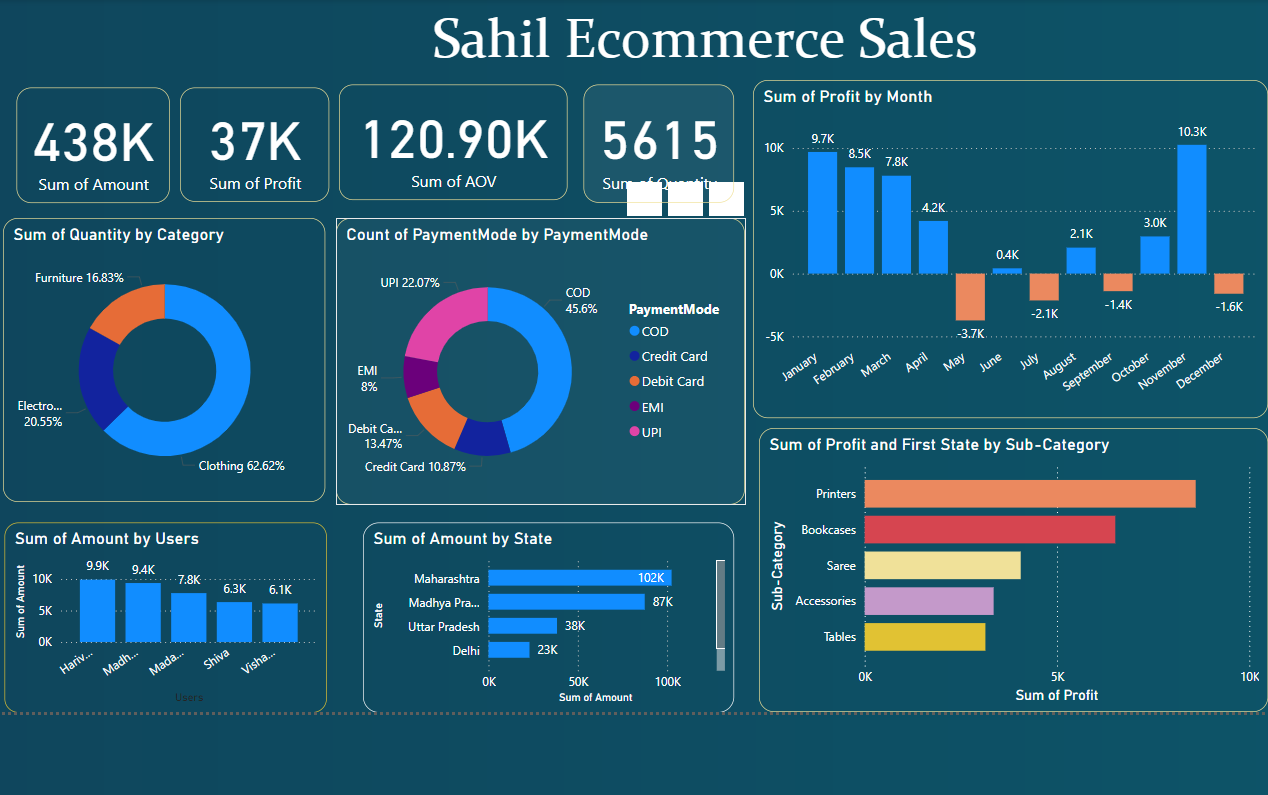

The dashboard page shown, as its layout file describes it:
{"tool":"powerbi","page":{"name":"Page 2","canvas":[1280,720],"ordinal":1},"visuals":[{"type":"textbox","box":[171.4,0,1080.7,80.9],"z":0},{"type":"clusteredBarChart","fields":{"Category":["Details.Sub-Category"],"Y":["Details.Profit"]},"box":[765.7,433.4,514.3,286.6],"z":1000},{"type":"donutChart","fields":{"Y":["Details.Quantity"],"Category":["Details.Category"]},"box":[3.7,221.7,325,286.6],"z":2000},{"type":"donutChart","fields":{"Series":["Details.PaymentMode"],"Y":["Details.PaymentMode"]},"box":[339.2,220.3,412.8,289.4],"z":3000},{"type":"card","fields":{"Values":["Details.Amount"]},"box":[13.7,90.1,155,115.2],"z":4000},{"type":"card","fields":{"Values":["Details.Profit"]},"box":[182.4,89.6,150.9,115.2],"z":5000},{"type":"card","fields":{"Values":["Details.Quantity"]},"box":[588.3,86.4,152.2,119.3],"z":6000},{"type":"card","fields":{"Values":["Details.AOV"]},"box":[341.5,85.9,230.4,116.6],"z":7000},{"type":"columnChart","fields":{"Category":["Orders.Date.Variation.Date Hierarchy.Month"],"Y":["Details.Profit"]},"box":[760.2,81.4,519.8,341.5],"z":8000},{"type":"barChart","fields":{"Category":["Orders.State"],"Y":["Details.Amount"]},"box":[366.2,528,374.4,192],"z":9000},{"type":"columnChart","fields":{"Category":["Orders.Users"],"Y":["Details.Amount"]},"box":[4,528,325,192],"z":10000}]}

Visuals, with their boxes on the page's 1280x720 design canvas (x1, y1, x2, y2). These are canvas units, not pixel positions in the 1268x795 screenshot, which may show the page scaled, cropped or inside an application window:
textbox: crop(171, 0, 1252, 81)
clusteredBarChart - Details.Sub-Category x Details.Profit: crop(766, 433, 1280, 720)
donutChart - Details.Quantity x Details.Category: crop(4, 222, 329, 508)
donutChart - Details.PaymentMode x Details.PaymentMode: crop(339, 220, 752, 510)
card - Details.Amount: crop(14, 90, 169, 205)
card - Details.Profit: crop(182, 90, 333, 205)
card - Details.Quantity: crop(588, 86, 740, 206)
card - Details.AOV: crop(342, 86, 572, 202)
columnChart - Orders.Date.Variation.Date Hierarchy.Month x Details.Profit: crop(760, 81, 1280, 423)
barChart - Orders.State x Details.Amount: crop(366, 528, 741, 720)
columnChart - Orders.Users x Details.Amount: crop(4, 528, 329, 720)
